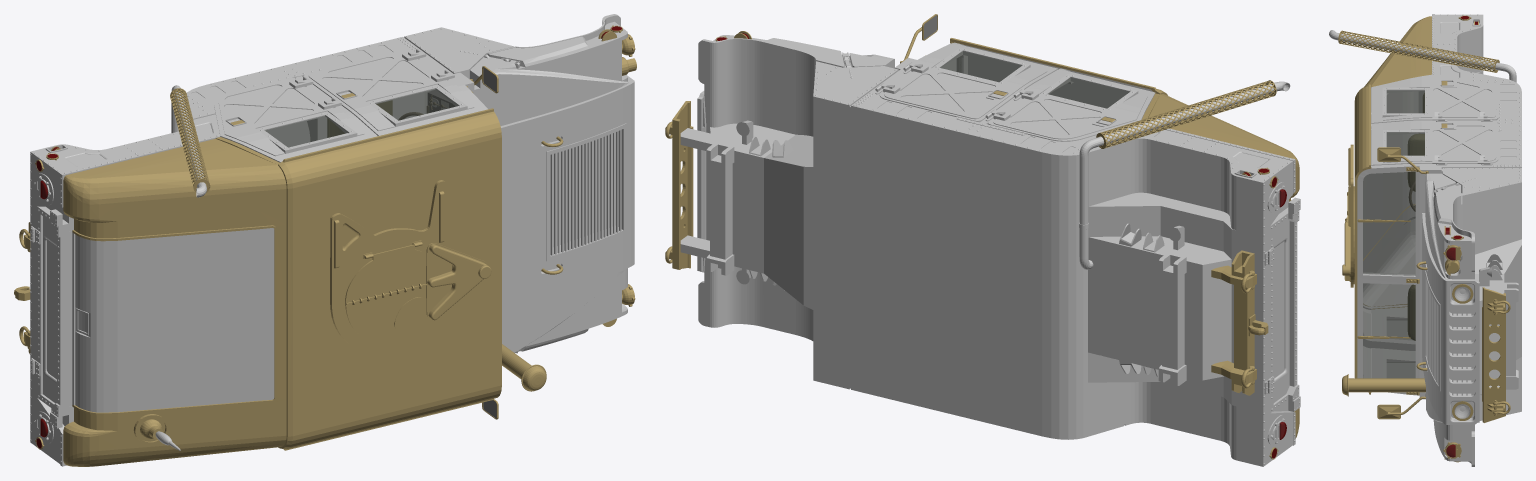
Rendered from hmmwv_chassis_backup.obj.
The picture shows the model from 3 angles, left to right: view 1: azimuth 30°, elevation 25°; view 2: azimuth 150°, elevation 25°; view 3: azimuth 270°, elevation 25°; orthographic projection. The views are drawn at different scales.
Visible parts, largest first — view 1: roof_cap_roof_cap.001, body_body.001, hatch_hatch.001, turret_turret.001, door_d1_door_d1.001, tailgate_tailgate.001, door_d2_door_d2.001, turret.hat_turret.hat.001, interior_interior.001, turret.ha0_turret.ha0.001, exhst_stac_exhst_stac.001, door_d1.wi_door_d1.wi.001 (+2 smaller); view 2: body_body.001, bumpers_bumpers.001, door_d1_door_d1.001, door_d2_door_d2.001, roof_cap_roof_cap.001, tailgate_tailgate.001, exhst_stac_exhst_stac.001, door_d2.wi_door_d2.wi.001, door_d1.wi_door_d1.wi.001; view 3: body_body.001, windshld_windshld.001, roof_cap_roof_cap.001, door_d2_door_d2.001, door_d1_door_d1.001, hatch_hatch.001, bumpers_bumpers.001, exhst_stac_exhst_stac.001, lites_lites.001, turret_turret.001, door_d2.wi_door_d2.wi.001, door_p1_door_p1.001 (+9 smaller).
Part boxes in pixels (box(x1,y1,x2,y2)): roof_cap_roof_cap.001: box(63, 108, 501, 466); body_body.001: box(30, 14, 634, 466); hatch_hatch.001: box(72, 228, 274, 412); turret_turret.001: box(330, 180, 491, 353); door_d1_door_d1.001: box(304, 51, 481, 135); tailgate_tailgate.001: box(31, 206, 72, 428); door_d2_door_d2.001: box(214, 78, 371, 162); turret.hat_turret.hat.001: box(345, 244, 426, 304); interior_interior.001: box(62, 91, 430, 465); turret.ha0_turret.ha0.001: box(345, 284, 426, 342); exhst_stac_exhst_stac.001: box(170, 85, 210, 197); door_d1.wi_door_d1.wi.001: box(375, 88, 458, 120); body_body.001: box(680, 35, 1295, 466); bumpers_bumpers.001: box(665, 101, 1268, 395); door_d1_door_d1.001: box(879, 44, 1057, 122); door_d2_door_d2.001: box(988, 70, 1155, 141); roof_cap_roof_cap.001: box(950, 38, 1299, 438); tailgate_tailgate.001: box(1267, 197, 1300, 412); exhst_stac_exhst_stac.001: box(1079, 80, 1290, 224); door_d2.wi_door_d2.wi.001: box(1048, 77, 1129, 108); door_d1.wi_door_d1.wi.001: box(940, 51, 1021, 81); body_body.001: box(1342, 14, 1521, 466); windshld_windshld.001: box(1363, 171, 1415, 378); roof_cap_roof_cap.001: box(1354, 16, 1431, 394); door_d2_door_d2.001: box(1371, 74, 1498, 123); door_d1_door_d1.001: box(1371, 122, 1498, 165); hatch_hatch.001: box(1363, 91, 1418, 259); bumpers_bumpers.001: box(1482, 287, 1505, 422); exhst_stac_exhst_stac.001: box(1329, 30, 1516, 82); lites_lites.001: box(1443, 15, 1478, 462); turret_turret.001: box(1342, 144, 1354, 287); door_d2.wi_door_d2.wi.001: box(1386, 90, 1424, 113); door_p1_door_p1.001: box(1371, 348, 1415, 378).
Bounding box in the file's own units: 4.73 × 2.56 × 1.65.
